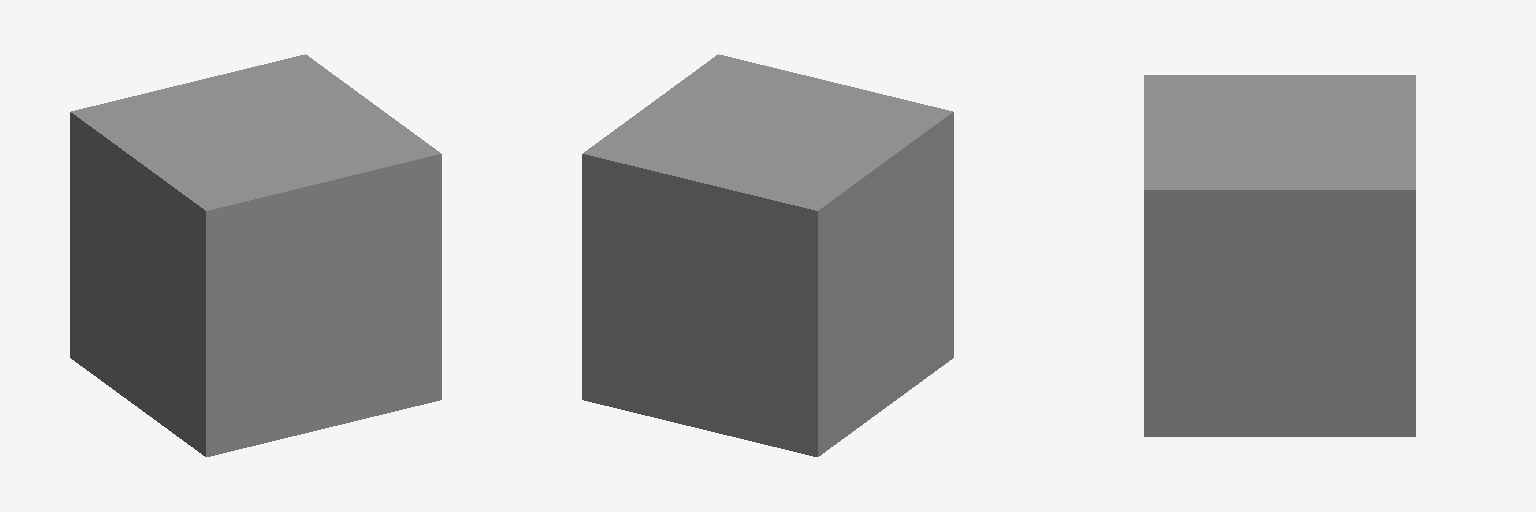
Rendered from Chari.obj.
The picture shows the model from 3 angles: view 1: azimuth 30°, elevation 25°; view 2: azimuth 150°, elevation 25°; view 3: azimuth 270°, elevation 25°; orthographic projection.
Parts seen in each view (by area): view 1: Cube.001_Cube.002; view 2: Cube.001_Cube.002; view 3: Cube.001_Cube.002.
Part boxes in pixels (left/top/right/bottom): Cube.001_Cube.002: left=70, top=54, right=441, bottom=456; Cube.001_Cube.002: left=582, top=54, right=953, bottom=456; Cube.001_Cube.002: left=1144, top=75, right=1415, bottom=436.
Size of the model in its own units: 60 by 60.06 by 60.